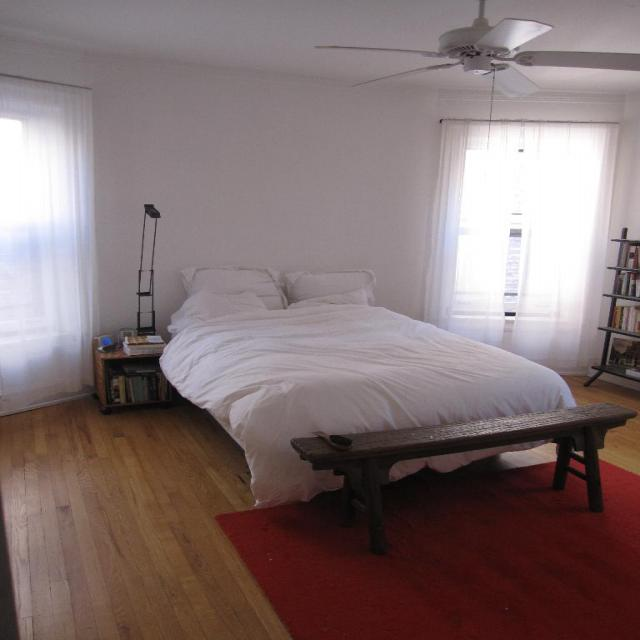Bulb: (314, 0, 640, 155)
